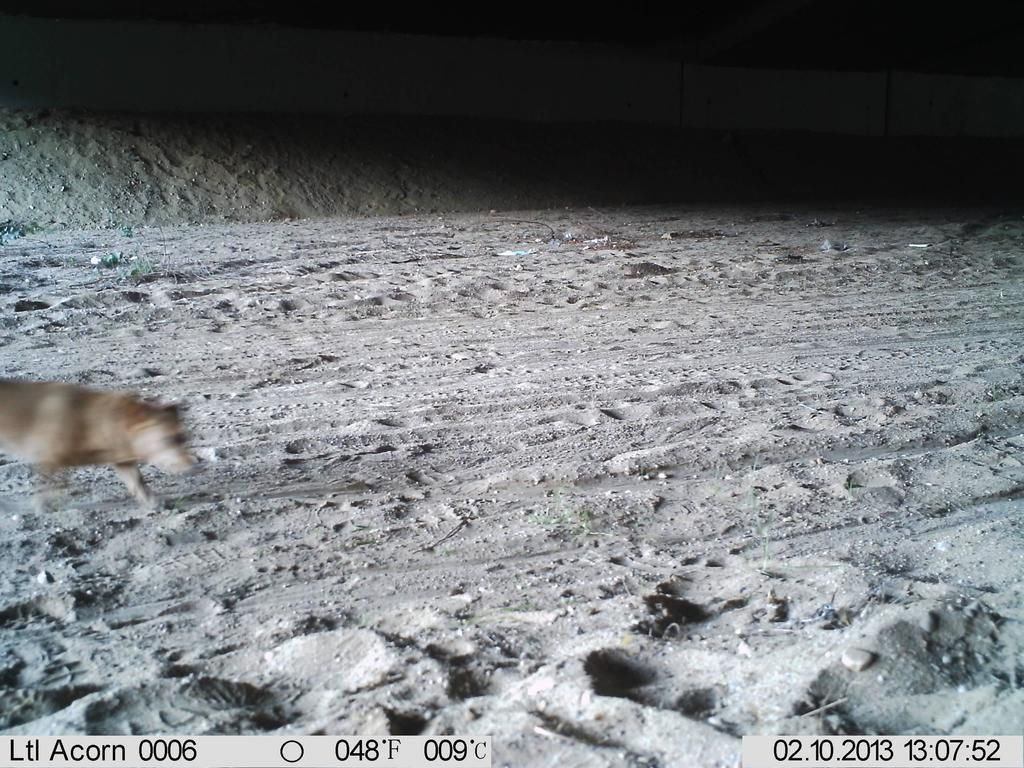dog: (2, 374, 199, 520)
